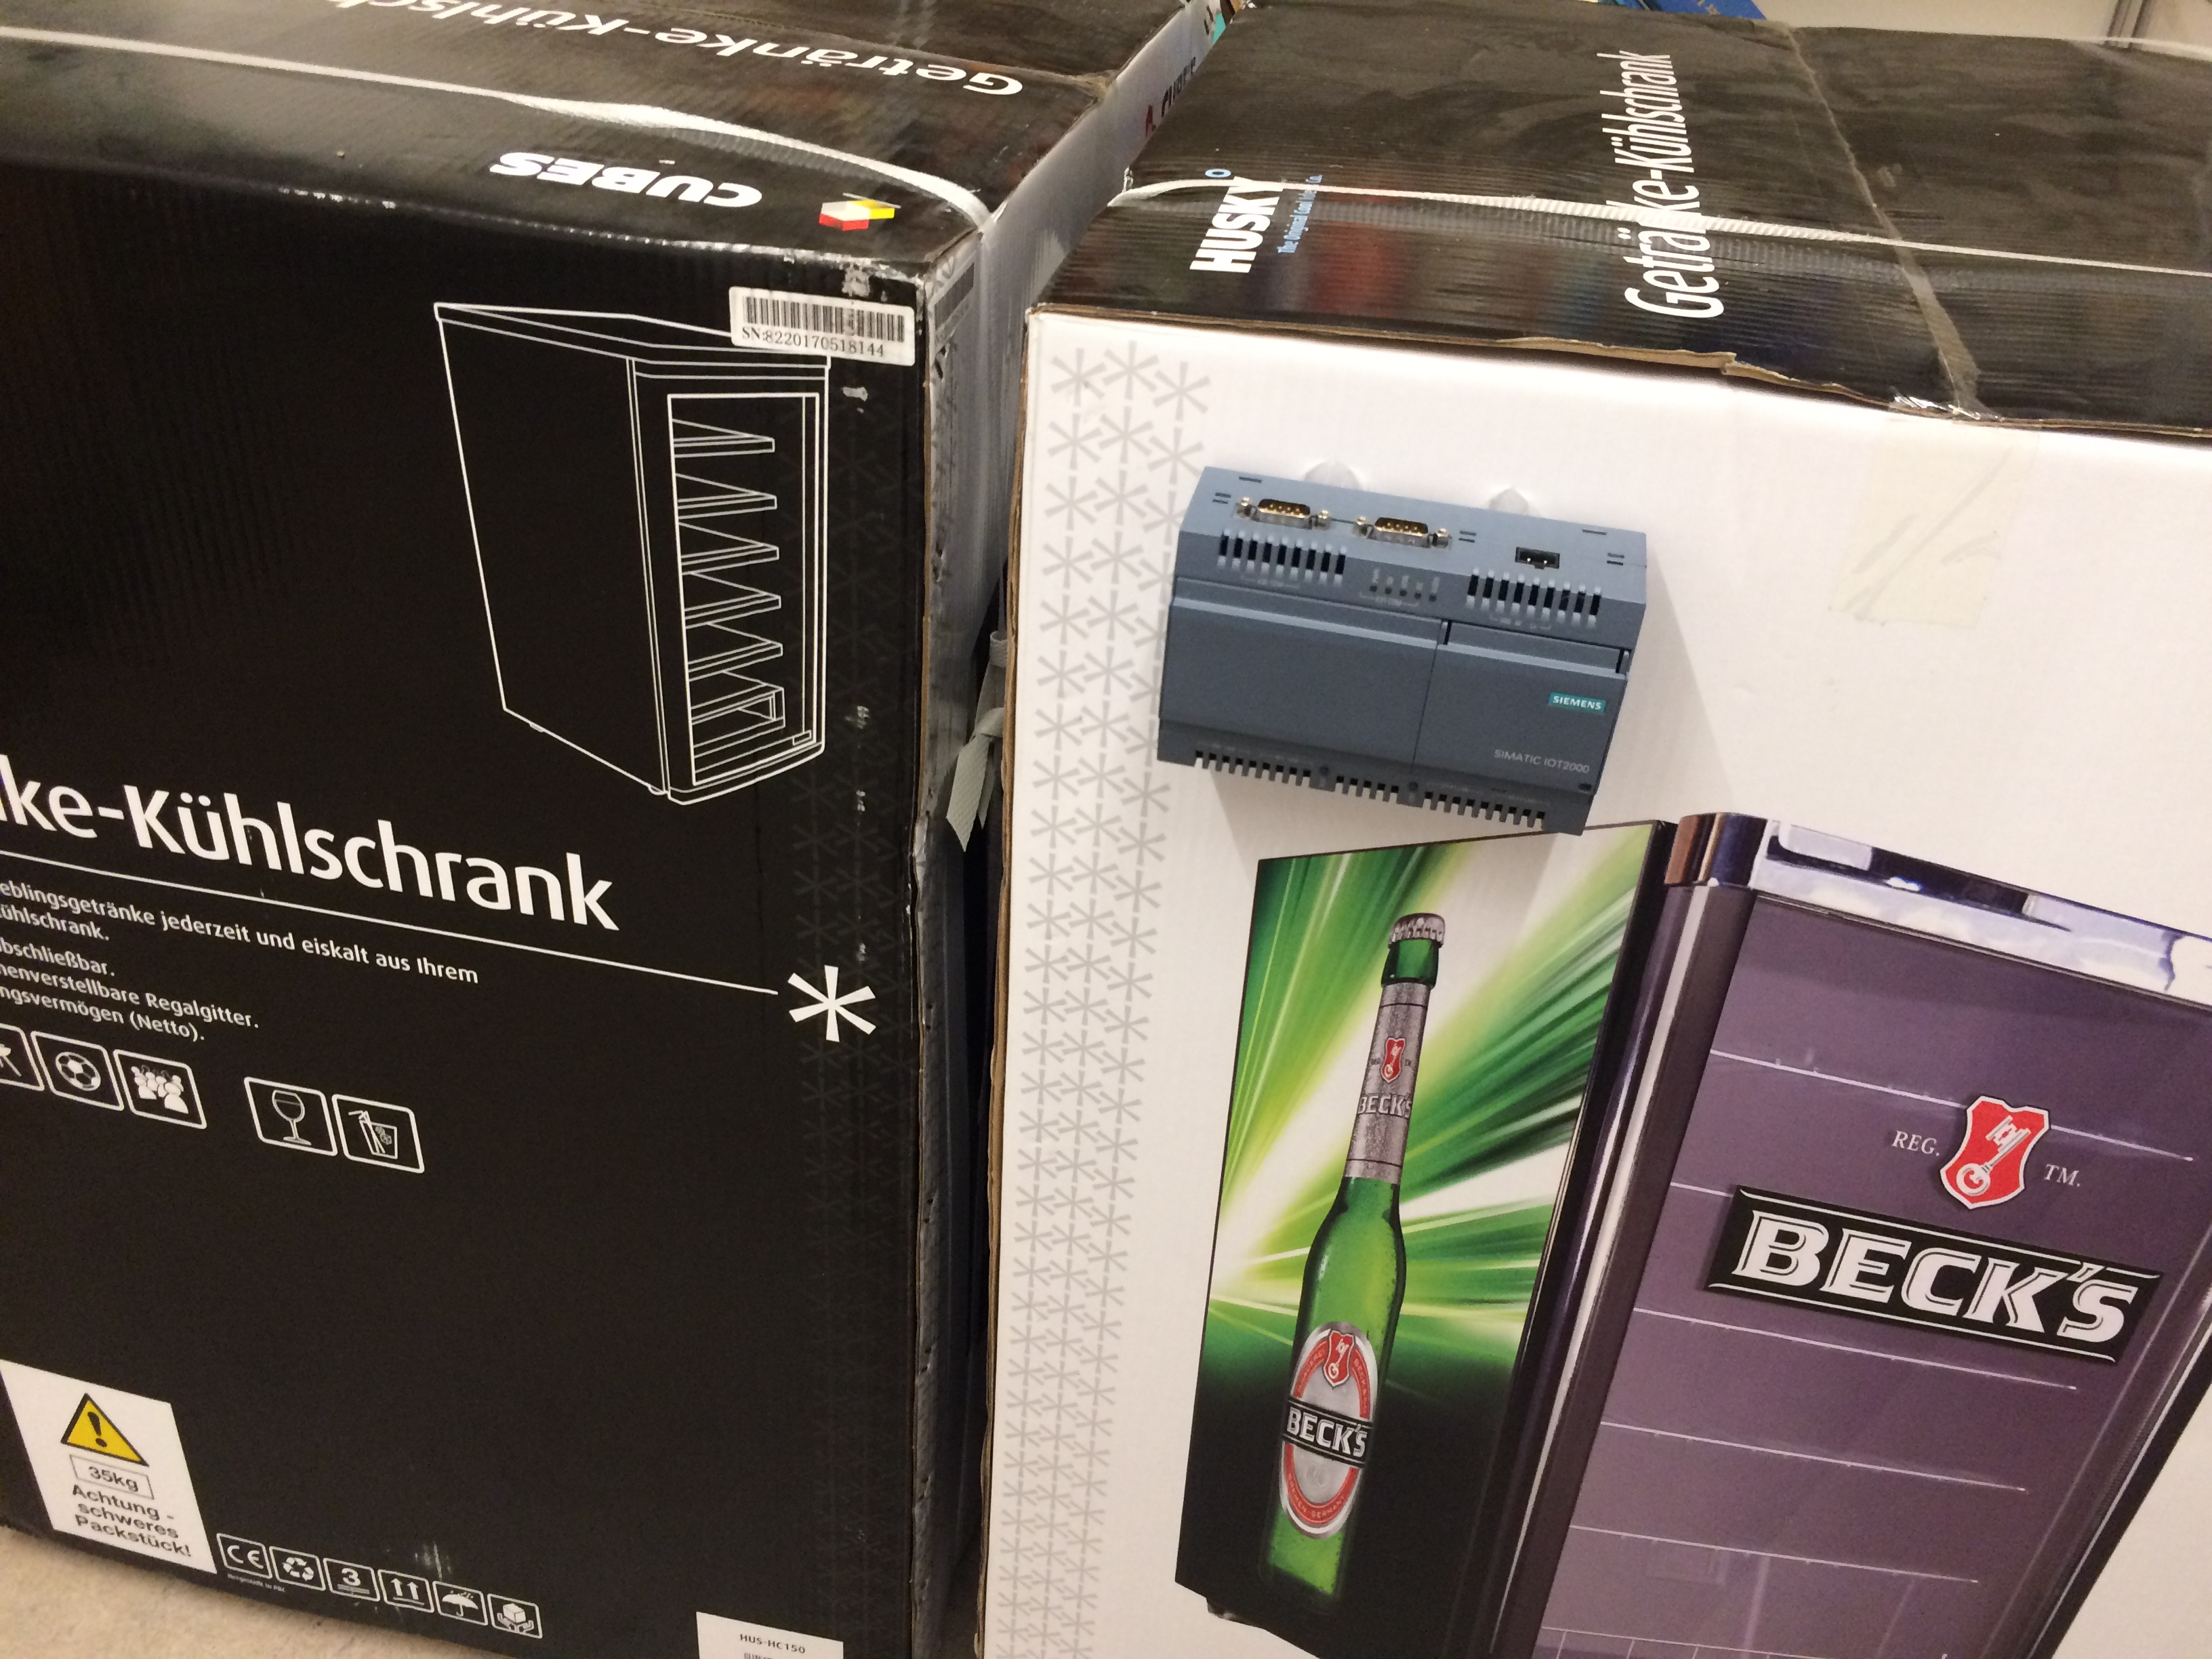iot2000: (1153, 462, 1655, 842)
